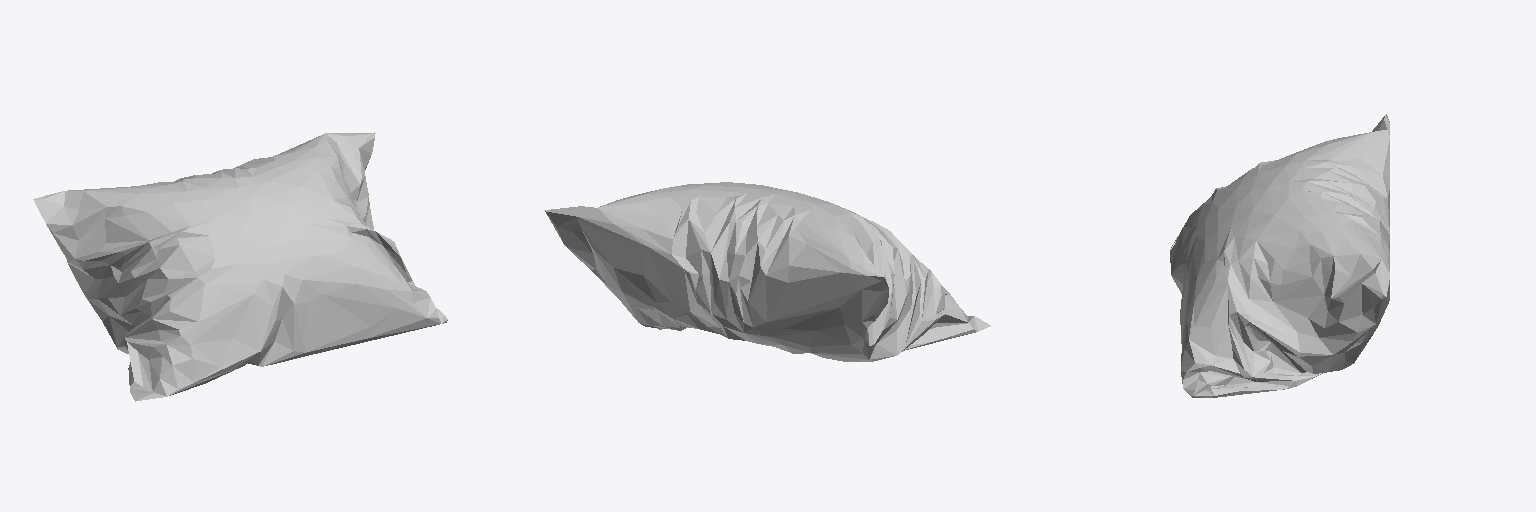
The model's file is PillowHis.obj.
3 views of the same model, side by side, from view 1: azimuth 30°, elevation 25°; view 2: azimuth 150°, elevation 25°; view 3: azimuth 270°, elevation 25° (orthographic).
Visible parts, largest first — view 1: Nordli_Pillows_Low_BedNordli_Pillows_Low_002; view 2: Nordli_Pillows_Low_BedNordli_Pillows_Low_002; view 3: Nordli_Pillows_Low_BedNordli_Pillows_Low_002.
Boxes of the visible parts, box(x1,y1,x2,y2) form: Nordli_Pillows_Low_BedNordli_Pillows_Low_002: box(33, 132, 447, 401); Nordli_Pillows_Low_BedNordli_Pillows_Low_002: box(544, 182, 990, 361); Nordli_Pillows_Low_BedNordli_Pillows_Low_002: box(1170, 114, 1389, 397).
Bounding box in the file's own units: 0.7416 × 0.2895 × 0.412.